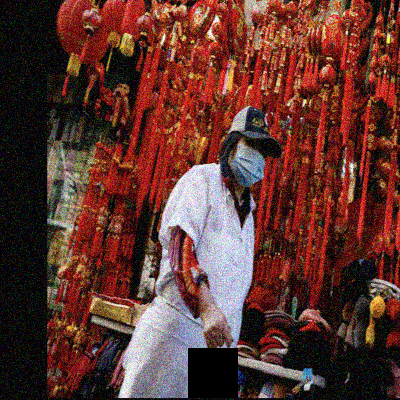with_mask: (123, 136, 178, 188)
